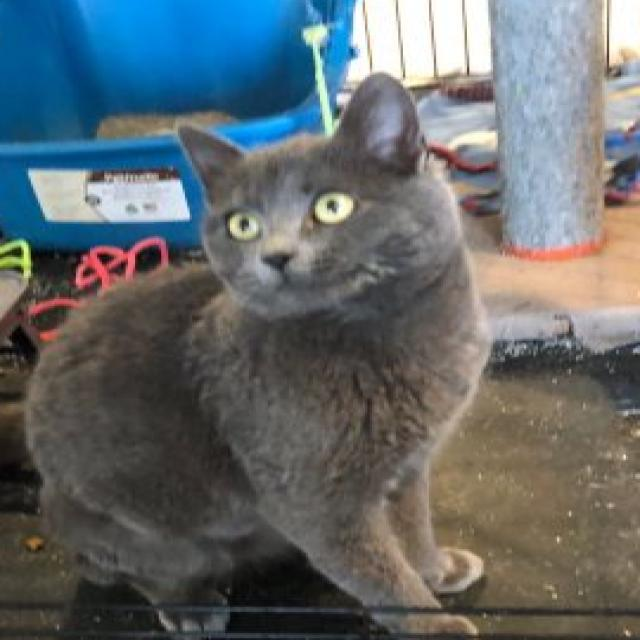Russian Blue: (19, 70, 498, 640)
